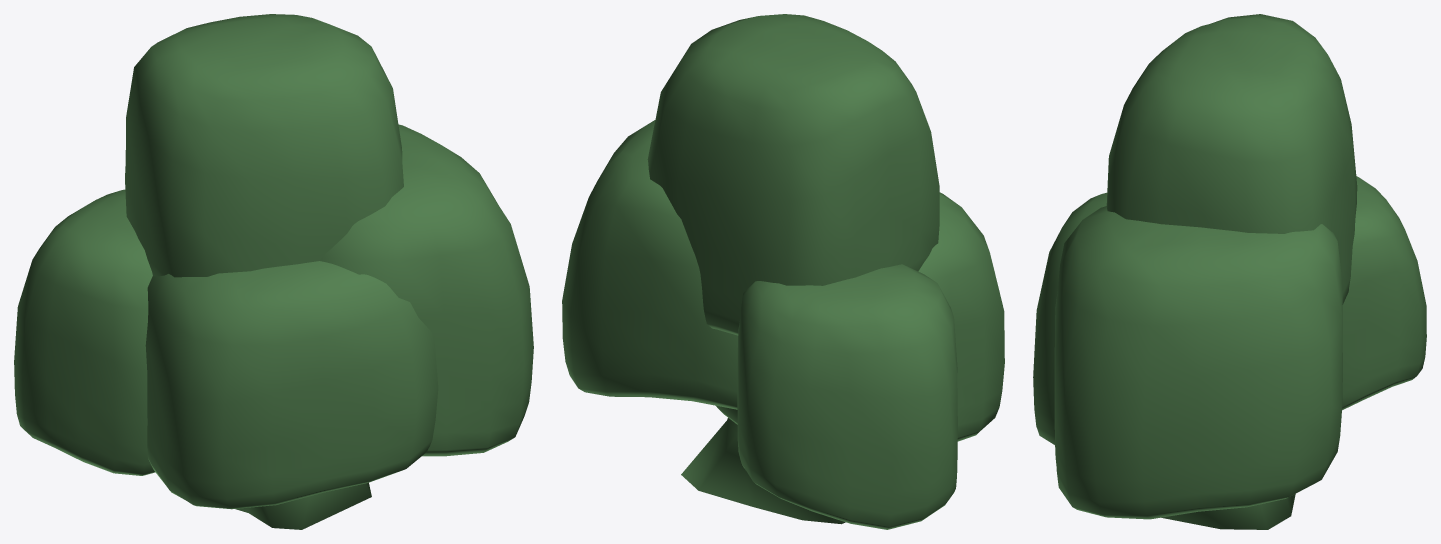
Rendered from bush2-compressed.glb.
The picture shows the model from 3 angles, left to right: view 1: azimuth 30°, elevation 25°; view 2: azimuth 150°, elevation 25°; view 3: azimuth 270°, elevation 25°; orthographic projection. The views are drawn at different scales.
Visible parts, largest first — view 1: bush2; view 2: bush2; view 3: bush2.
Boxes of the visible parts, x1,y1,x2,y2 form: bush2: (14,14,533,529); bush2: (562,14,1004,529); bush2: (1033,14,1426,529).
Bounding box in the file's own units: 1.02 × 1.05 × 0.8633.
